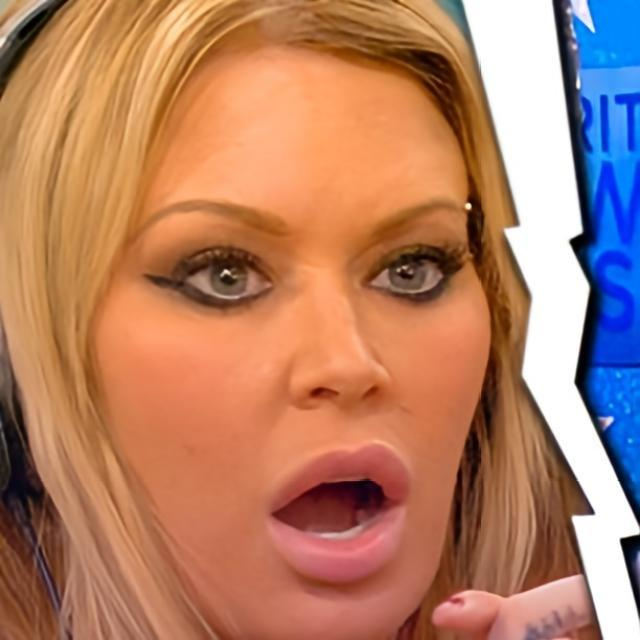surprise: (92, 39, 492, 640)
